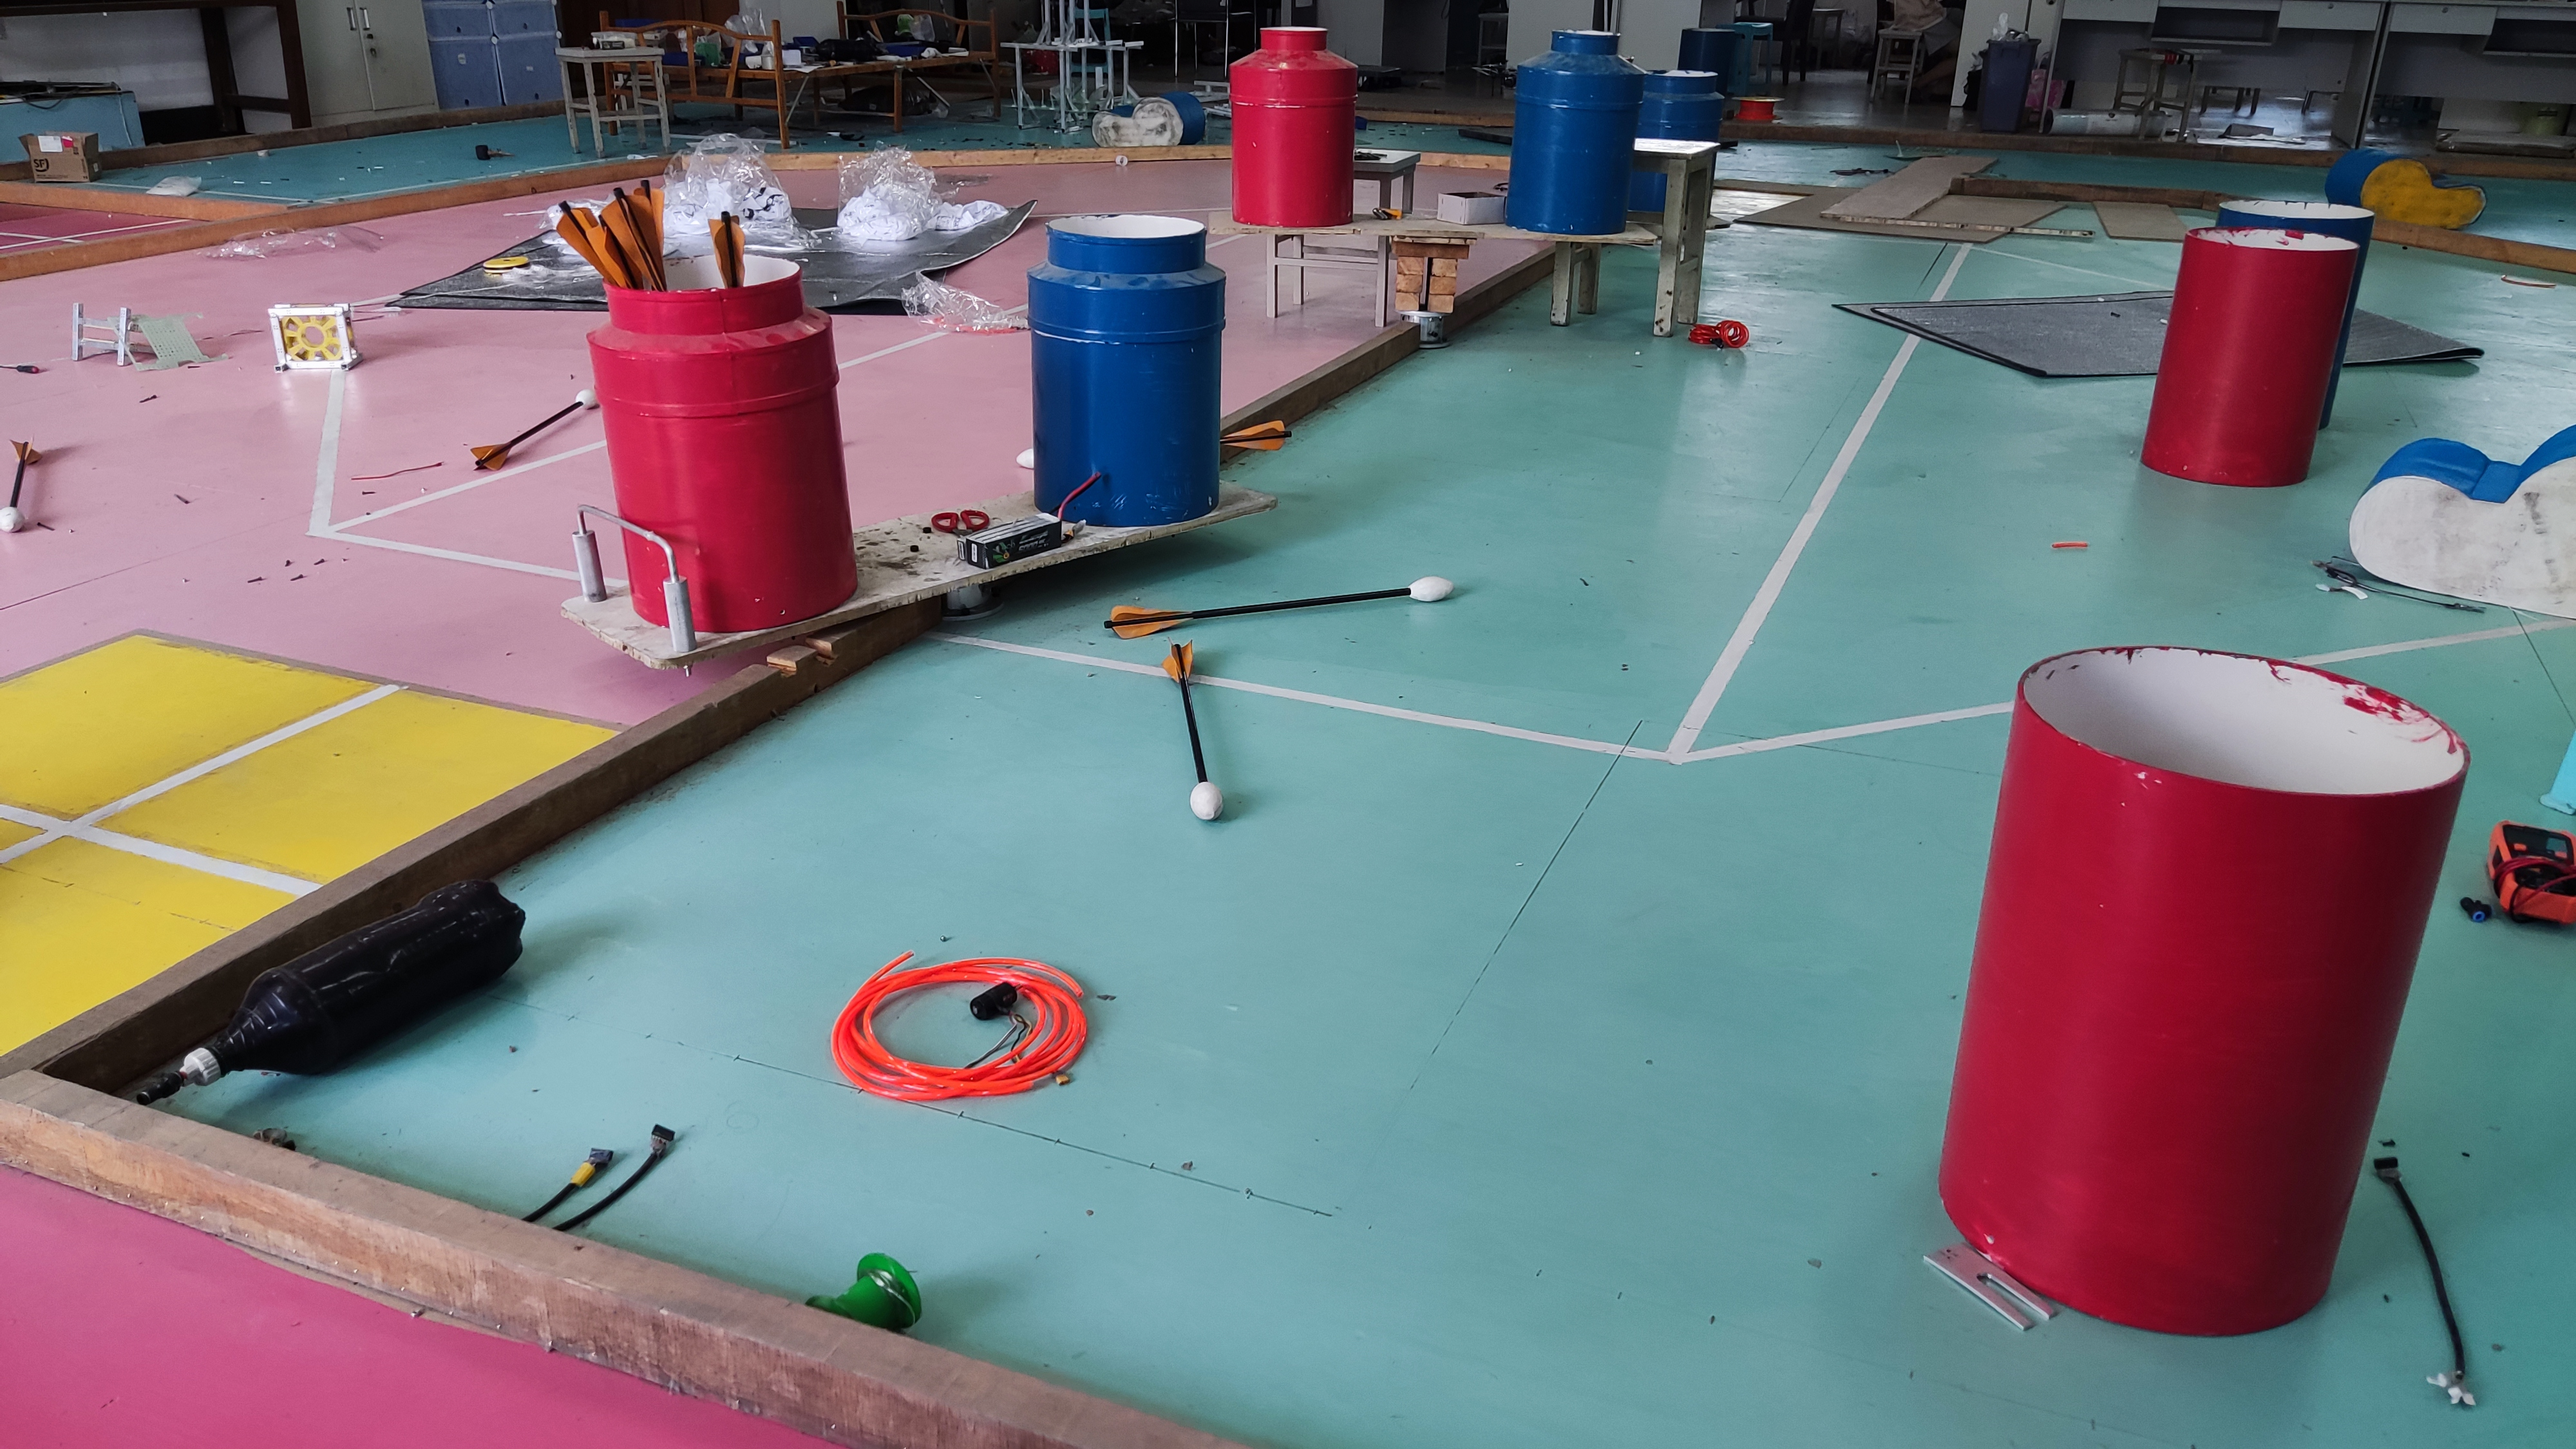arrow: (1104, 571, 1454, 639), (469, 379, 607, 478), (1161, 637, 1226, 821), (0, 433, 53, 540)
arrowFront: (1185, 780, 1231, 823), (1403, 573, 1456, 603), (4, 504, 34, 538), (575, 387, 603, 414)
blueBucket: (1024, 211, 1231, 534), (1511, 25, 1640, 241)
redBucket: (1932, 630, 2468, 1338), (591, 249, 867, 635), (2146, 223, 2360, 492), (1224, 28, 1364, 232)
